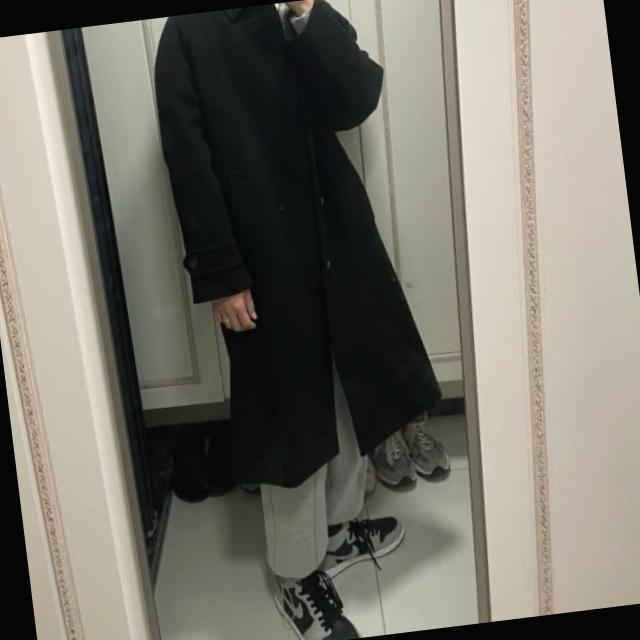coat: (146, 0, 450, 496)
hoodies: (204, 0, 318, 44)
trainingpants: (244, 337, 380, 582)
